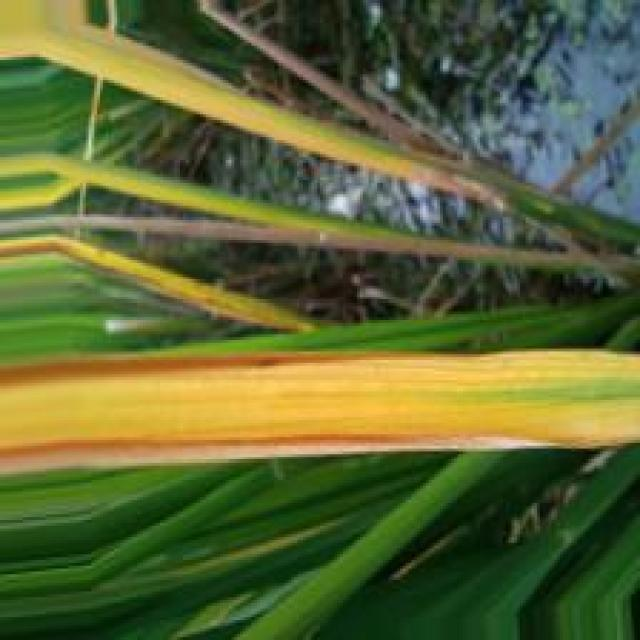Bacterial_Leaf_Blight: (0, 350, 640, 446), (0, 430, 638, 469)
